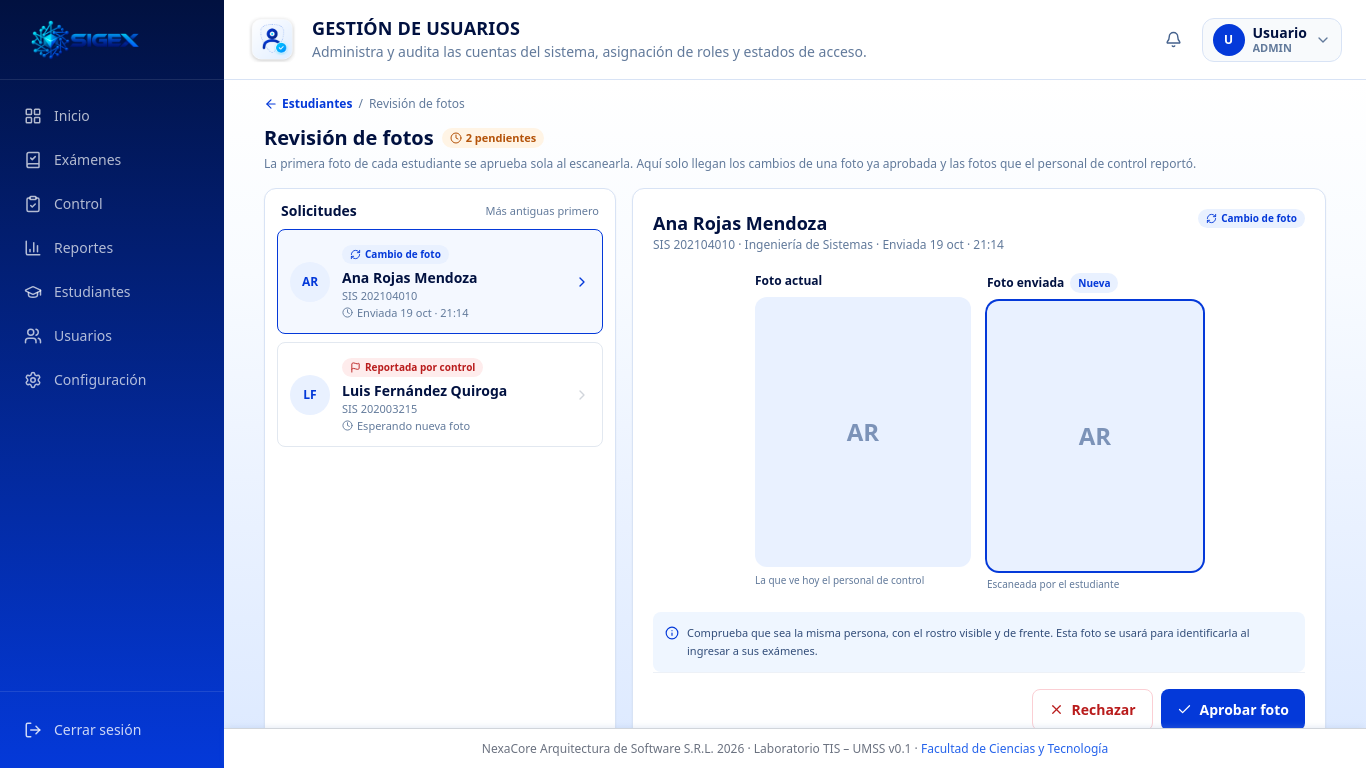
Test: RevisionFotosPage (CTA-02) › lista cambios y reportes y aprueba la foto seleccionada
Check: the text "2 pendientes" is shown, box 442,128 -> 544,148
Check: the text "Cambio de foto" below "Solicitudes" is shown, box 365,247 -> 441,261
Click the button "Aprobar foto".
click(1233, 710)  # box 1161,689 -> 1305,731
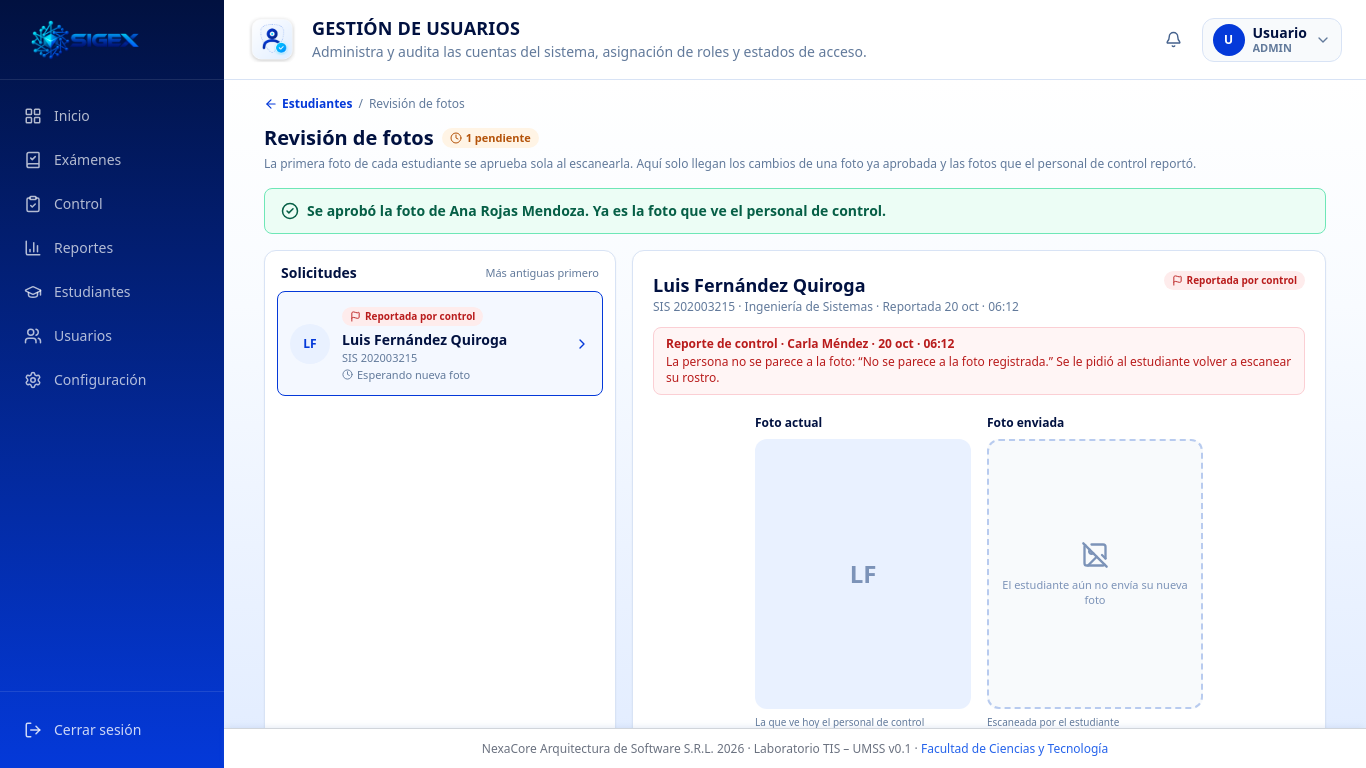
Check: the text "Se aprobó la foto de Ana Rojas Mendoza" is shown, box 307,201 -> 886,220
